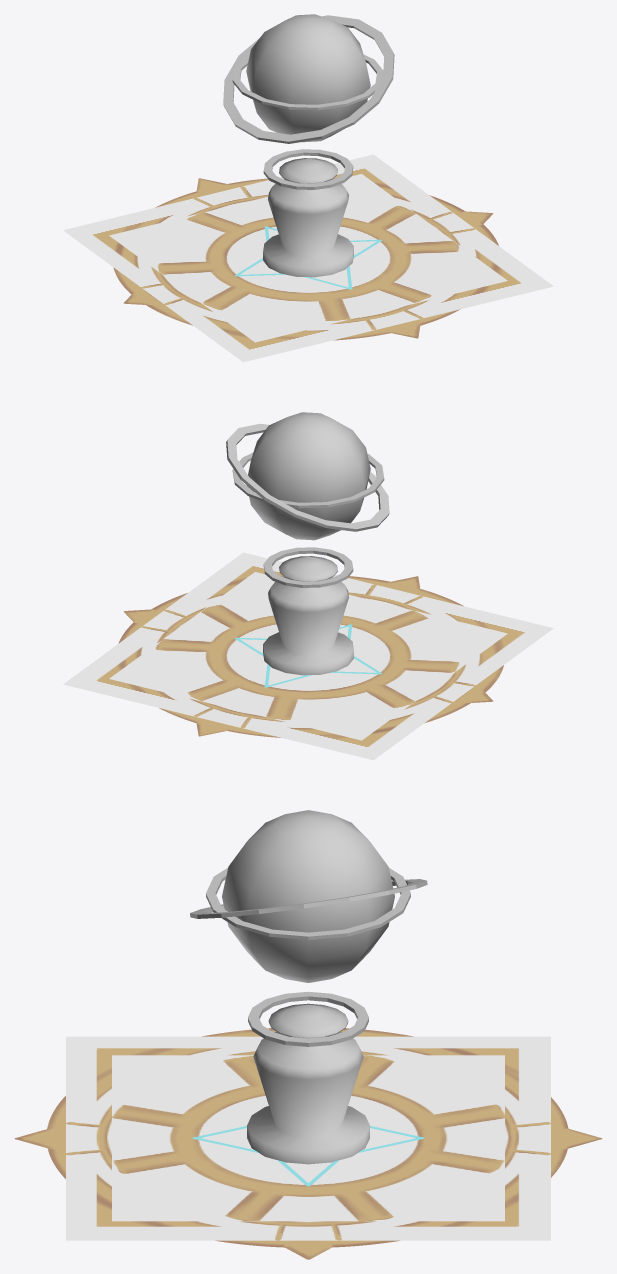
3 renders of one model, top to bottom at view 1: azimuth 30°, elevation 25°; view 2: azimuth 150°, elevation 25°; view 3: azimuth 270°, elevation 25°, orthographic. The views are drawn at different scales.
Parts seen in each view (by area): view 1: Main_1001_Tex_14, Main_1001_Tex_15, Sphere.001, Cylinder.001, Circle.001, Main_1001_Tex_13.002, Circle.003, Circle, Main_1001_Tex_16; view 2: Main_1001_Tex_14, Main_1001_Tex_15, Sphere.001, Cylinder.001, Main_1001_Tex_13.002, Circle.001, Circle.003, Circle, Main_1001_Tex_16; view 3: Main_1001_Tex_14, Main_1001_Tex_15, Sphere.001, Cylinder.001, Main_1001_Tex_13.002, Circle.003, Circle, Circle.001, Main_1001_Tex_16.
Boxes of the visible parts, x1=… form: Main_1001_Tex_14: x1=109, y1=174, x2=507, y2=342; Main_1001_Tex_15: x1=63, y1=154, x2=553, y2=362; Sphere.001: x1=246, y1=14, x2=370, y2=142; Cylinder.001: x1=263, y1=158, x2=353, y2=277; Circle.001: x1=223, y1=15, x2=394, y2=143; Main_1001_Tex_13.002: x1=113, y1=178, x2=498, y2=340; Circle.003: x1=263, y1=149, x2=353, y2=189; Circle: x1=232, y1=54, x2=383, y2=110; Main_1001_Tex_16: x1=235, y1=226, x2=381, y2=289; Main_1001_Tex_14: x1=109, y1=572, x2=507, y2=740; Main_1001_Tex_15: x1=63, y1=552, x2=553, y2=760; Sphere.001: x1=246, y1=412, x2=370, y2=540; Cylinder.001: x1=263, y1=556, x2=353, y2=675; Main_1001_Tex_13.002: x1=118, y1=576, x2=503, y2=737; Circle.001: x1=226, y1=423, x2=389, y2=531; Circle.003: x1=263, y1=547, x2=353, y2=587; Circle: x1=232, y1=452, x2=384, y2=508; Main_1001_Tex_16: x1=235, y1=624, x2=381, y2=687; Main_1001_Tex_14: x1=112, y1=1055, x2=504, y2=1221; Main_1001_Tex_15: x1=66, y1=1036, x2=550, y2=1240; Sphere.001: x1=222, y1=810, x2=394, y2=982; Cylinder.001: x1=247, y1=1003, x2=369, y2=1164; Main_1001_Tex_13.002: x1=14, y1=1028, x2=602, y2=1259; Circle.003: x1=248, y1=991, x2=368, y2=1046; Circle: x1=206, y1=868, x2=410, y2=939; Circle.001: x1=190, y1=879, x2=427, y2=918; Main_1001_Tex_16: x1=192, y1=1126, x2=424, y2=1186.
Bounding box in the file's own units: 97.43 × 63.36 × 100.
